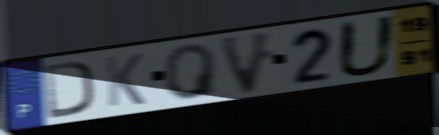2: (286, 23, 338, 89)
D: (42, 58, 96, 121)
K: (102, 51, 147, 110)
Q: (161, 41, 221, 102)
U: (334, 13, 399, 79)
V: (216, 28, 277, 97)
